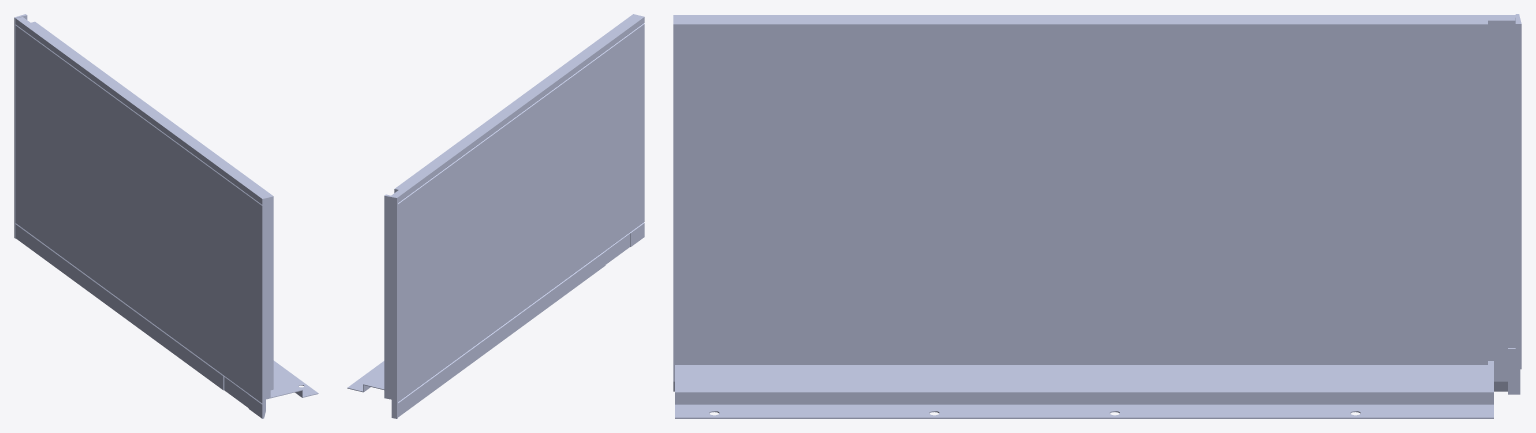
The model's file is lg-kava-F500-p.glb.
3 views of the same model, side by side, from view 1: azimuth 30°, elevation 25°; view 2: azimuth 150°, elevation 25°; view 3: azimuth 270°, elevation 25° (orthographic). The views are drawn at different scales.
Visible parts, largest first — view 1: 40135115; view 2: 40135115; view 3: 40135115.
Part boxes in pixels (x1=…): 40135115: x1=14, y1=14, x2=318, y2=418; 40135115: x1=347, y1=14, x2=644, y2=418; 40135115: x1=673, y1=14, x2=1521, y2=418.
Size of the model in its own units: 0.0653 by 0.2417 by 0.4935.
